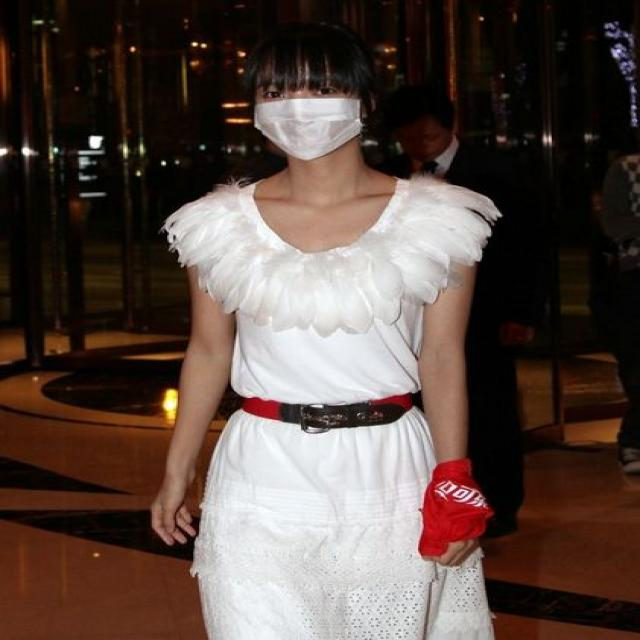mask: (259, 64, 346, 159)
nomask: (398, 119, 442, 163)
